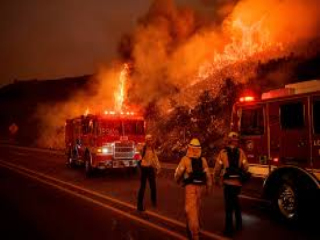fire: (178, 21, 290, 79), (100, 65, 148, 115)
smoke: (120, 5, 186, 62)
